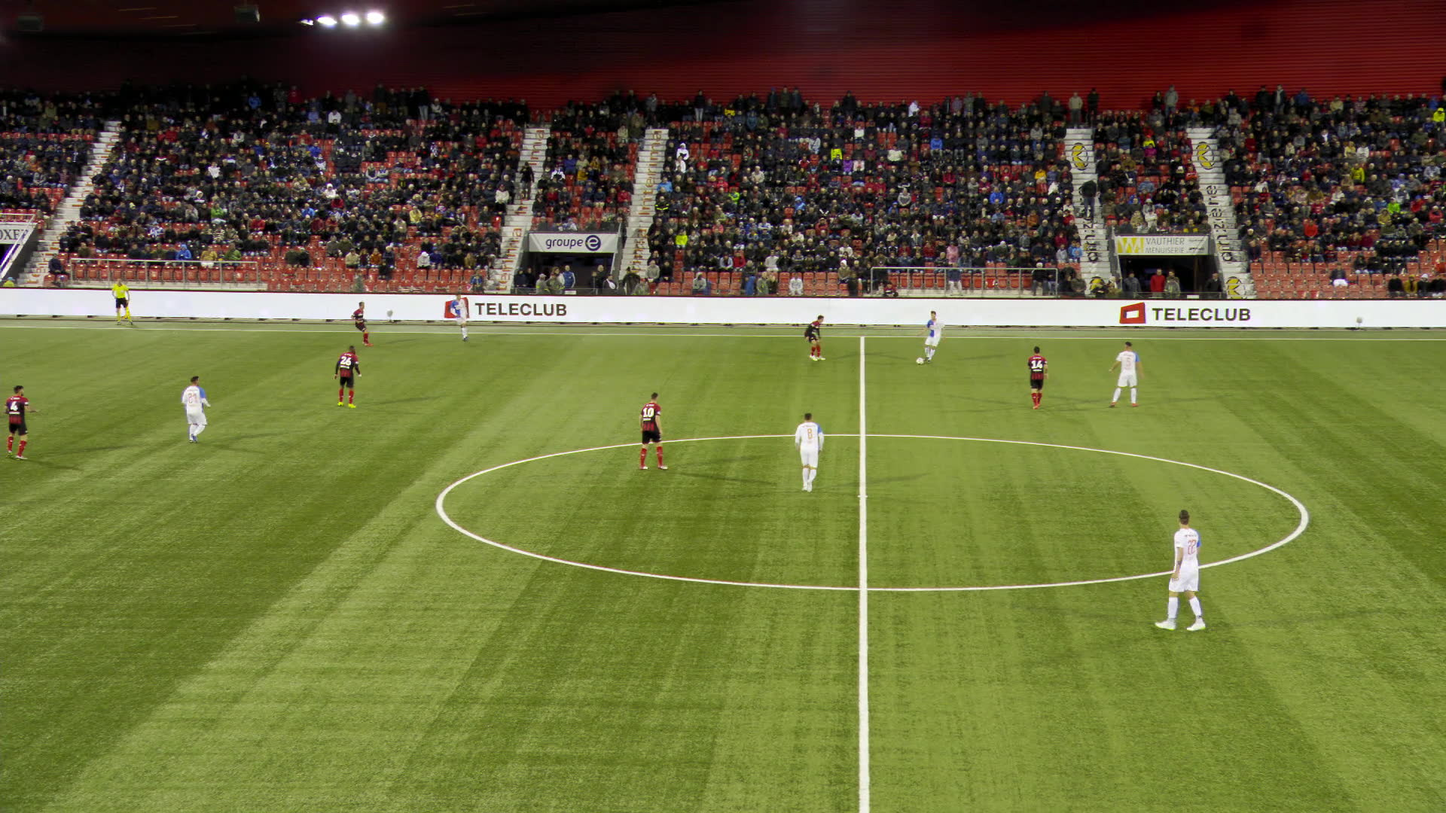ball: (914, 357, 922, 365)
player: (1154, 511, 1203, 632), (1, 382, 39, 460), (790, 412, 825, 496), (1105, 340, 1146, 408), (634, 390, 668, 471), (178, 373, 211, 443), (331, 343, 360, 410), (1026, 345, 1051, 412), (917, 310, 944, 362), (349, 303, 371, 346), (447, 292, 466, 340), (801, 314, 820, 361)
referee: (110, 278, 133, 324)
